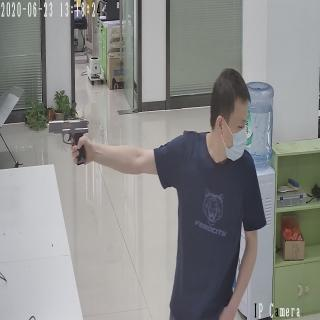gun: (46, 116, 91, 168)
